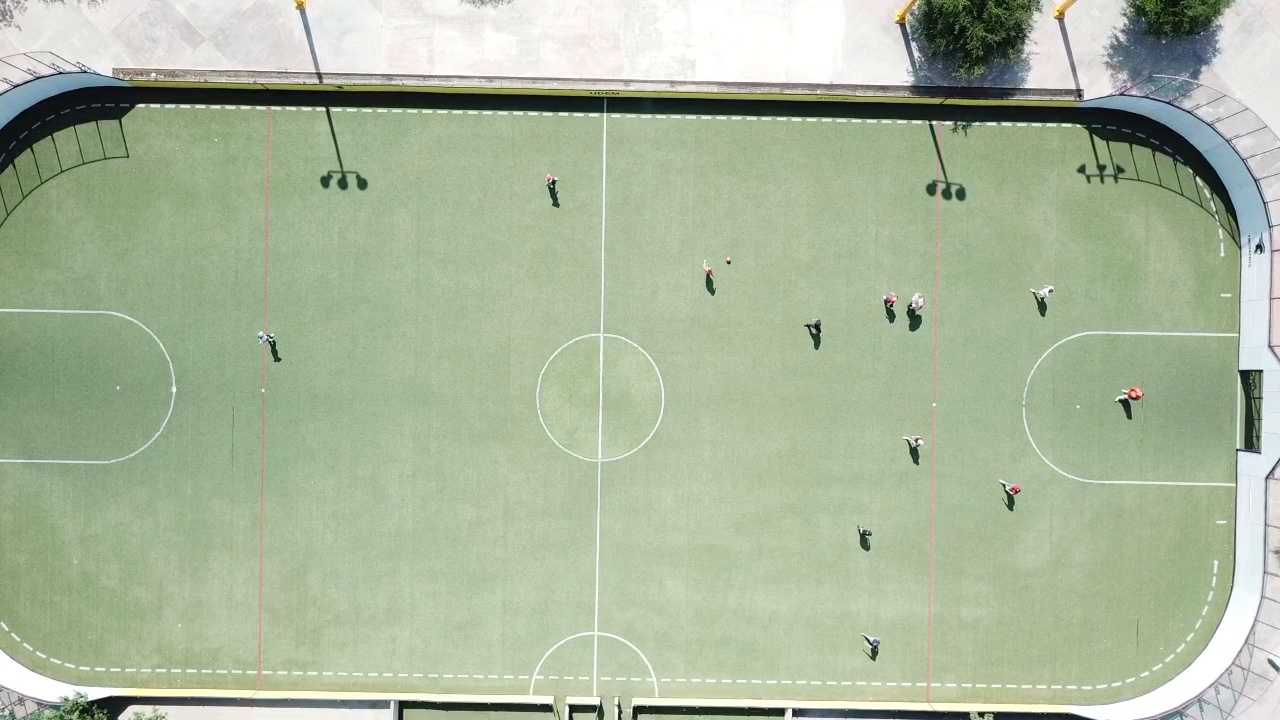ball: (726, 257, 731, 263)
player: (1116, 386, 1144, 403), (1031, 285, 1056, 303), (999, 479, 1021, 495), (909, 293, 925, 314), (804, 318, 822, 335), (883, 292, 899, 310), (861, 634, 879, 650), (546, 173, 559, 193), (257, 330, 273, 346), (901, 435, 922, 447), (702, 259, 712, 277), (858, 525, 872, 537)
